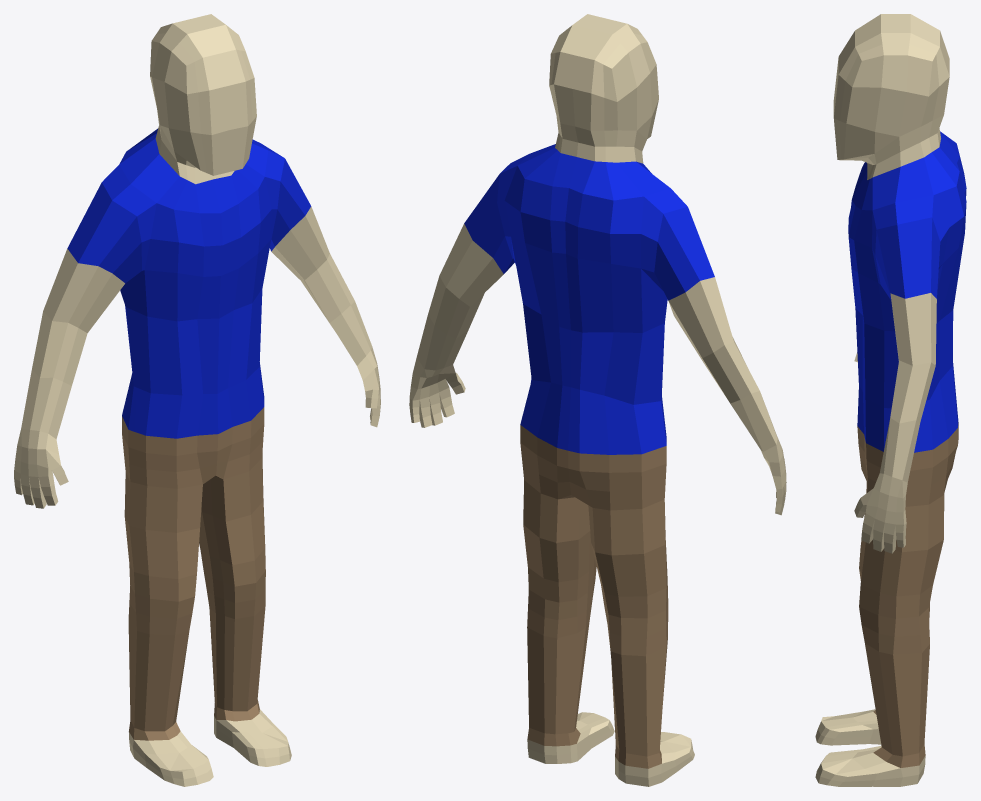
The model's file is man.gltf.
3 views of the same model, side by side, from view 1: azimuth 30°, elevation 25°; view 2: azimuth 150°, elevation 25°; view 3: azimuth 270°, elevation 25° (orthographic). The views are drawn at different scales.
Parts seen in each view (by area): view 1: Cube; view 2: Cube; view 3: Cube.
Boxes of the visible parts, left/top/right/bottom form: Cube: left=14, top=14, right=380, bottom=786; Cube: left=409, top=14, right=786, bottom=786; Cube: left=815, top=14, right=966, bottom=786.
Size of the model in its own units: 1.2 by 2.27 by 0.4242.
